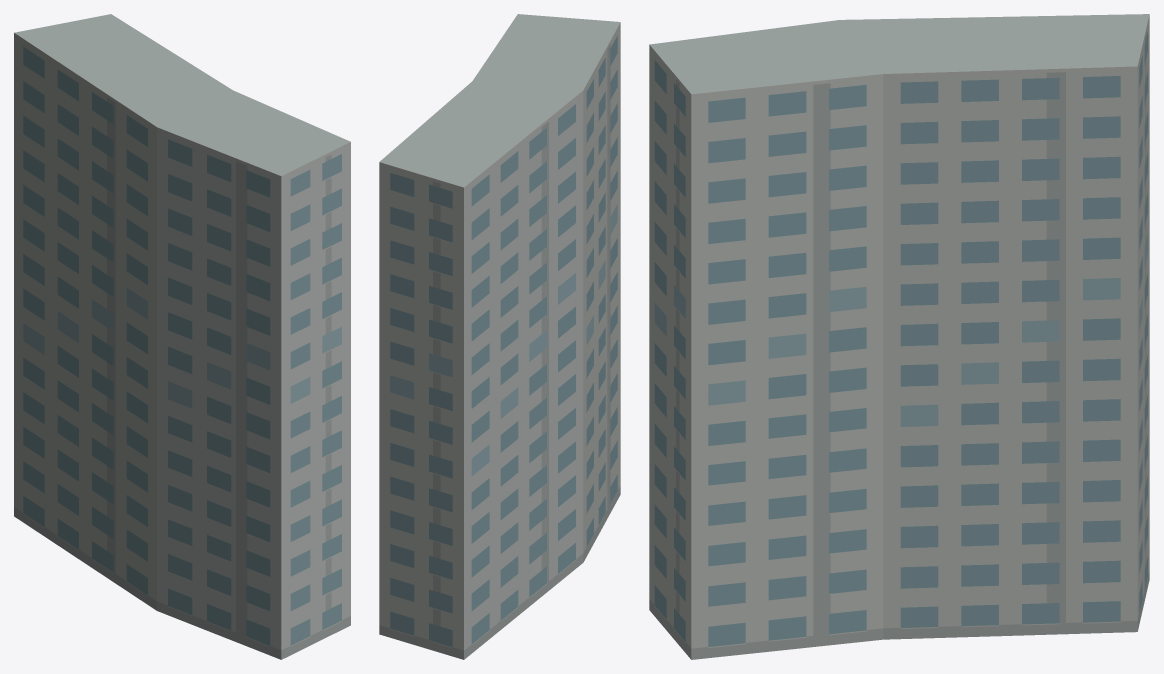
File: residential-08263c49-19d0-4ceb-a1c7-d43454ae5073.glb
3 views of the same model, side by side, from view 1: azimuth 30°, elevation 25°; view 2: azimuth 150°, elevation 25°; view 3: azimuth 270°, elevation 25° (orthographic). The views are drawn at different scales.
Visible parts, largest first — view 1: residential-08263c49-19d0-4ceb-a1c7-d43454ae5073.tmp; view 2: residential-08263c49-19d0-4ceb-a1c7-d43454ae5073.tmp; view 3: residential-08263c49-19d0-4ceb-a1c7-d43454ae5073.tmp.
Part boxes in pixels (bbox=[...]): residential-08263c49-19d0-4ceb-a1c7-d43454ae5073.tmp: bbox=[14, 14, 350, 659]; residential-08263c49-19d0-4ceb-a1c7-d43454ae5073.tmp: bbox=[379, 14, 620, 659]; residential-08263c49-19d0-4ceb-a1c7-d43454ae5073.tmp: bbox=[649, 14, 1149, 659].
Size of the model in its own units: 11.89 by 39 by 31.27.
